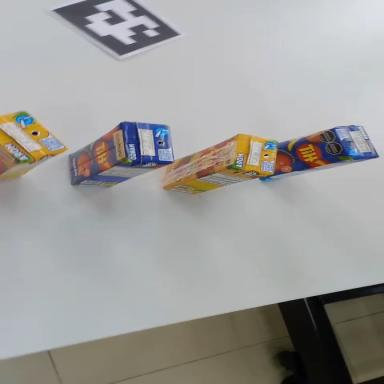HIT-MANGO: (58, 108, 180, 198), (255, 120, 378, 182)
HIT-MORA: (155, 126, 284, 202), (0, 106, 70, 181)
cara_F: (253, 126, 349, 180), (58, 122, 138, 185), (154, 134, 247, 188), (0, 145, 19, 175)
